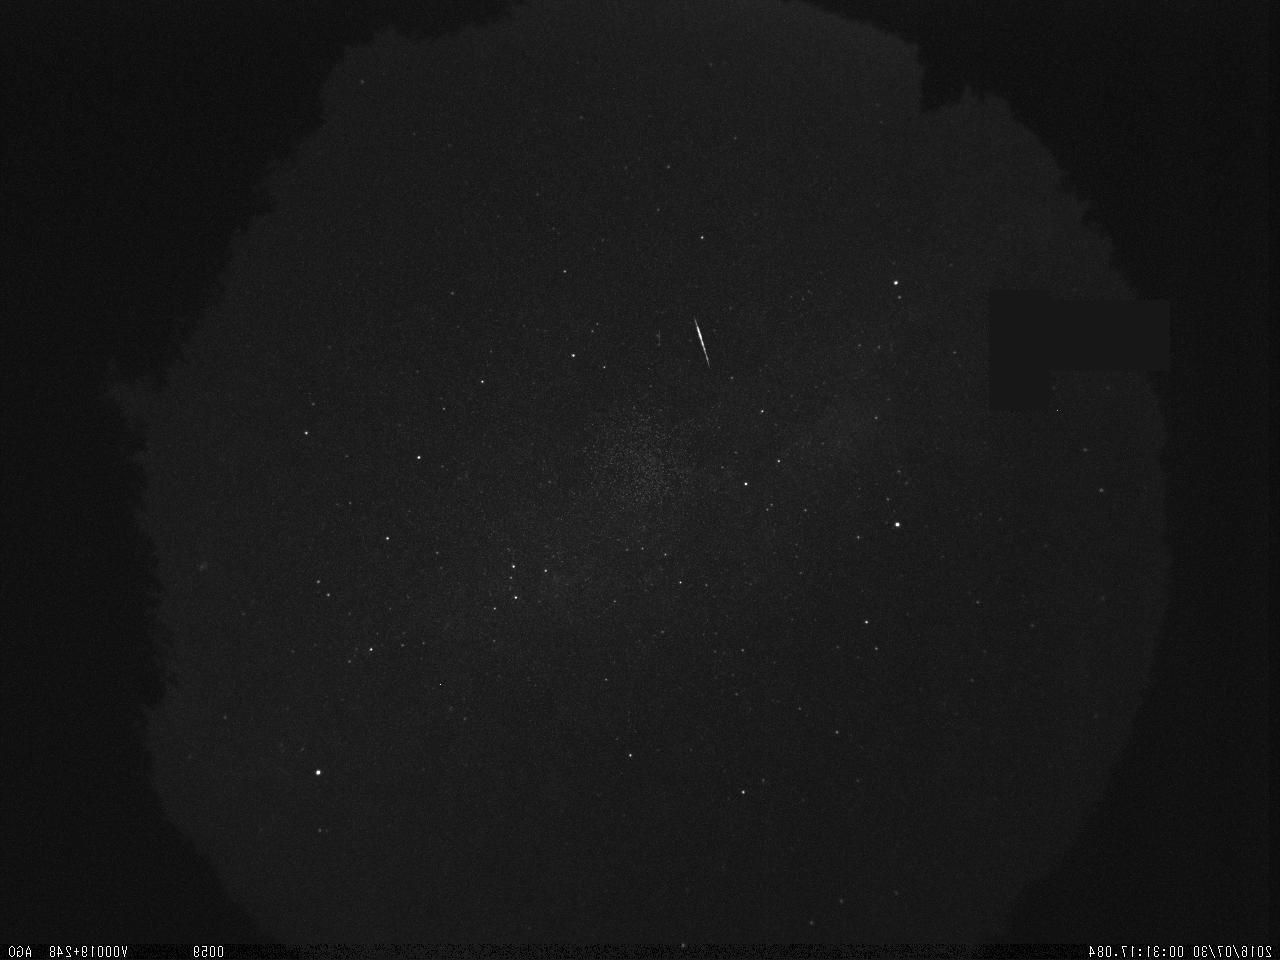meteor: (687, 315, 720, 374)
